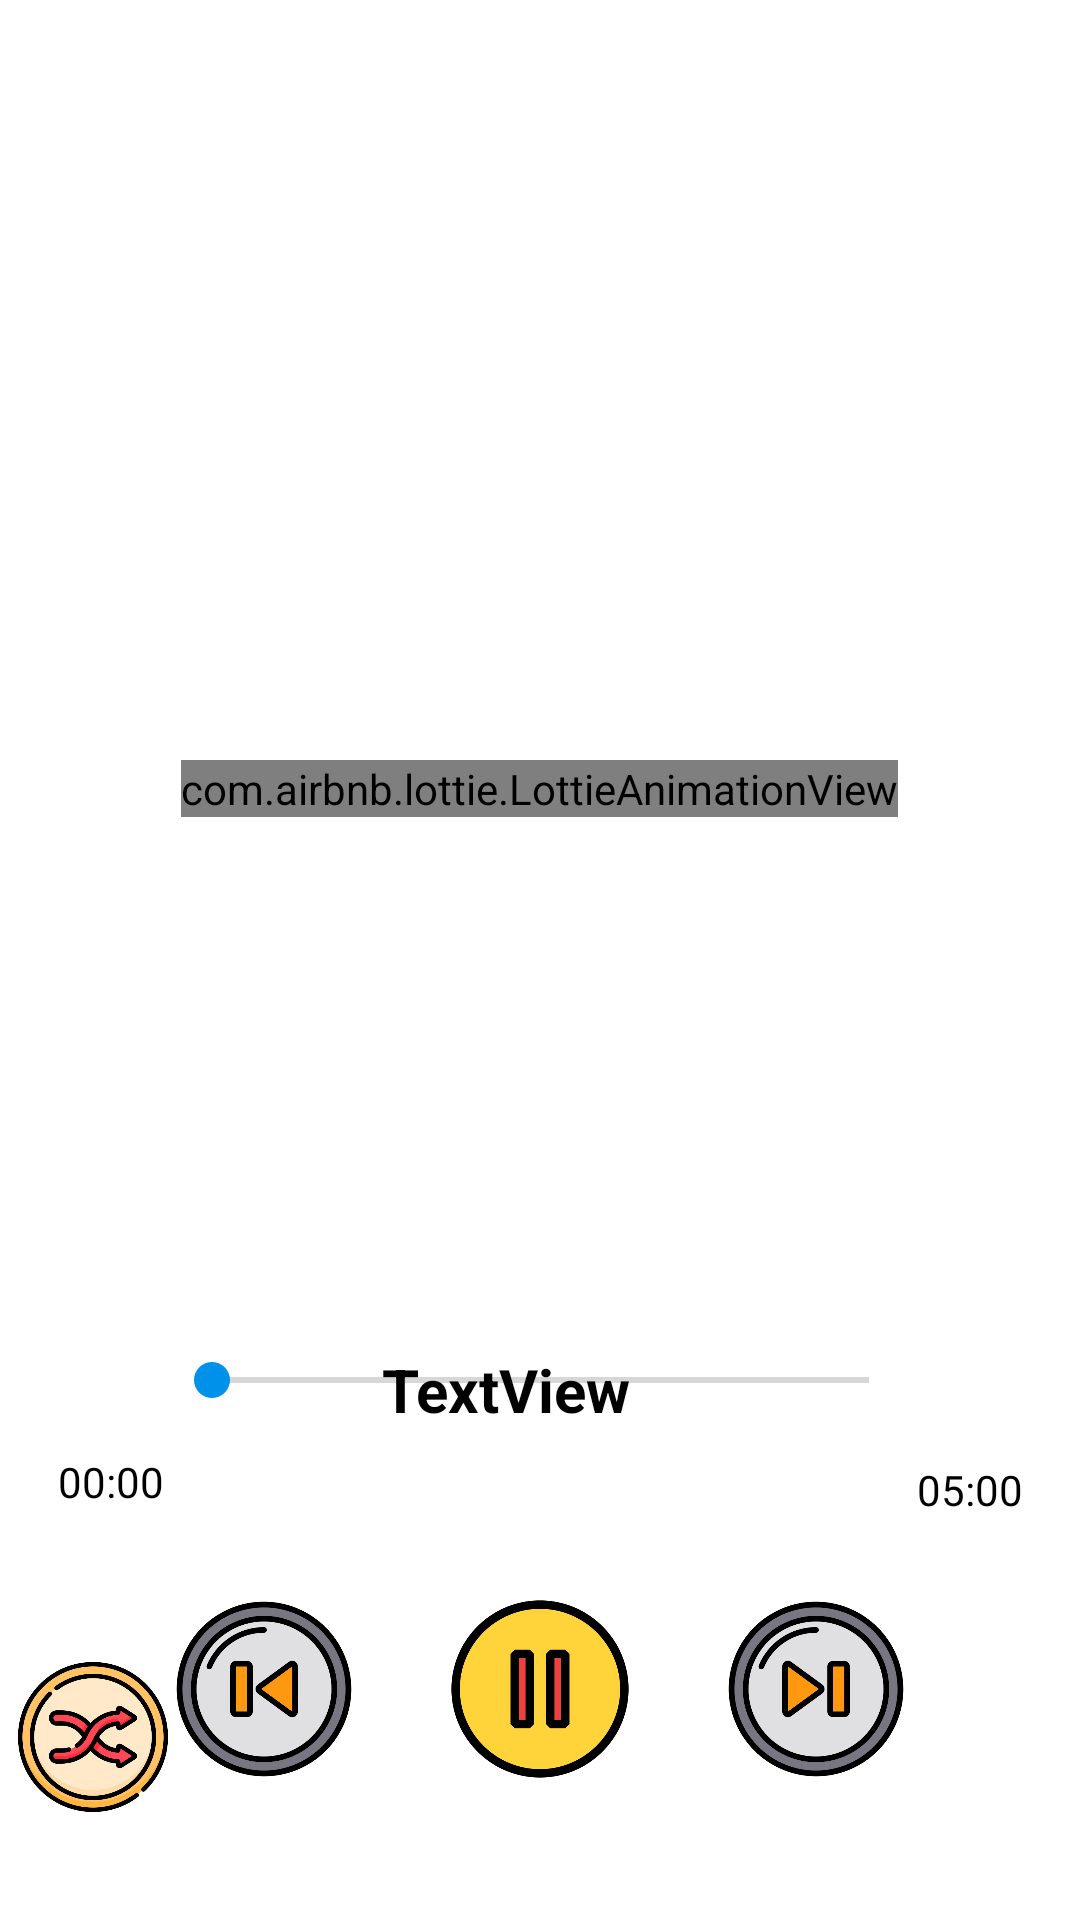

Icon bounding boxes for this 1080px x 1920px phone screenshot, format (x1, y1, x2, y2):
next: (728, 1601, 904, 1777)
pause: (451, 1600, 629, 1778)
previous: (176, 1601, 352, 1777)
shuffle: (18, 1662, 168, 1812)
